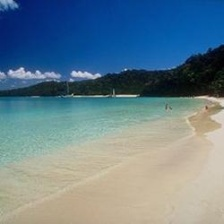neutral: (1, 14, 224, 223)
